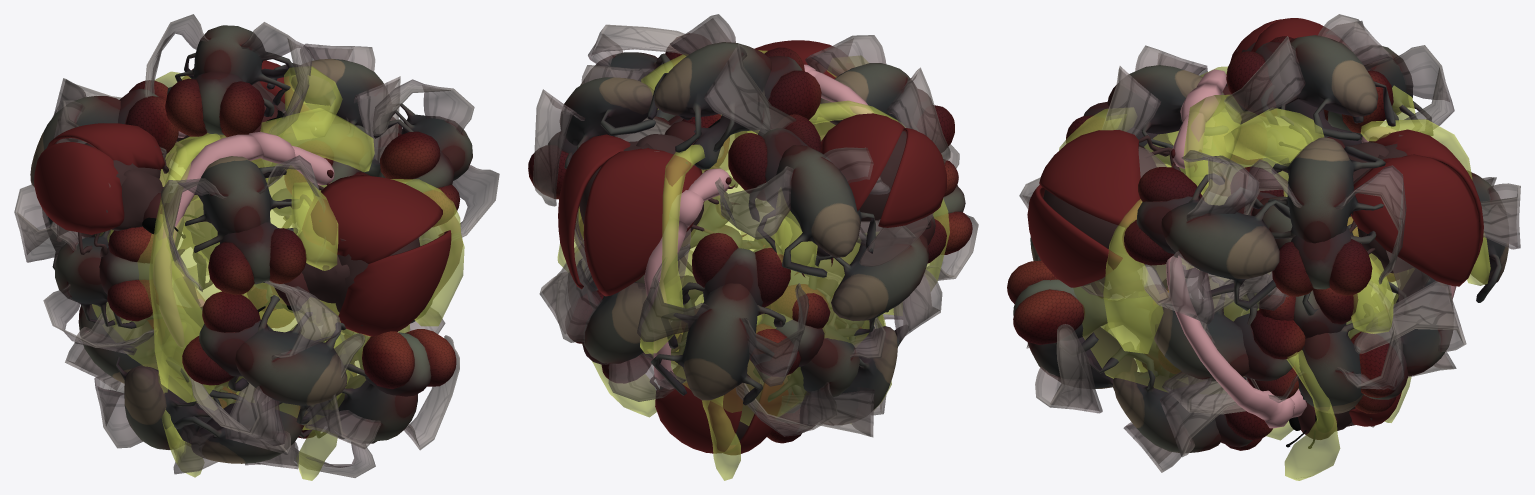
Rendered from bolaBichos.fbx.
The picture shows the model from 3 angles, left to right: view 1: azimuth 30°, elevation 25°; view 2: azimuth 150°, elevation 25°; view 3: azimuth 270°, elevation 25°; orthographic projection.
Parts seen in each view (by area): view 1: bolaBichos; view 2: bolaBichos; view 3: bolaBichos.
Part boxes in pixels (<box>): bolaBichos: <box>14,14,499,480</box>; bolaBichos: <box>528,14,978,480</box>; bolaBichos: <box>1007,14,1520,480</box>.
Bounding box in the file's own units: 84.73 × 84.15 × 93.93.
14 materials, 12 textured.
